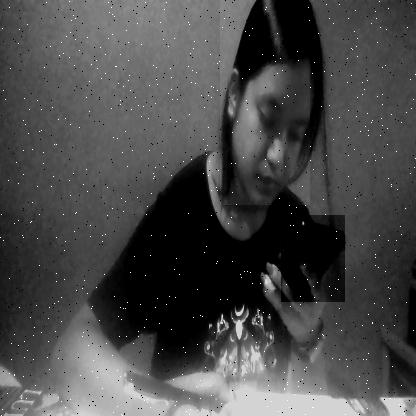Distracted: (220, 0, 310, 205)
Normal: (281, 215, 345, 302)
